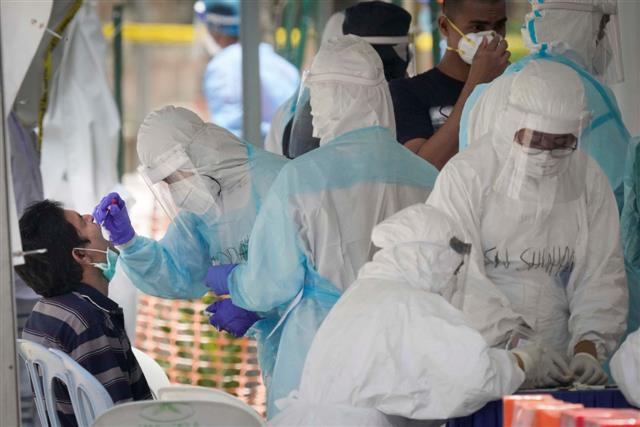Coverall: (241, 33, 447, 413), (425, 62, 633, 391), (118, 103, 312, 427), (298, 204, 512, 427), (459, 1, 640, 194)
Face_Shield: (488, 101, 596, 210), (129, 143, 225, 243), (553, 1, 631, 91), (354, 31, 421, 83)
Gloves: (508, 327, 571, 391), (89, 188, 139, 248), (201, 299, 262, 340), (564, 345, 612, 387), (198, 262, 243, 299)
Mask: (577, 12, 618, 77)
mask_weared_incorrect: (60, 206, 123, 279)
with_mask: (449, 4, 508, 70), (506, 125, 572, 183), (160, 166, 217, 222)
